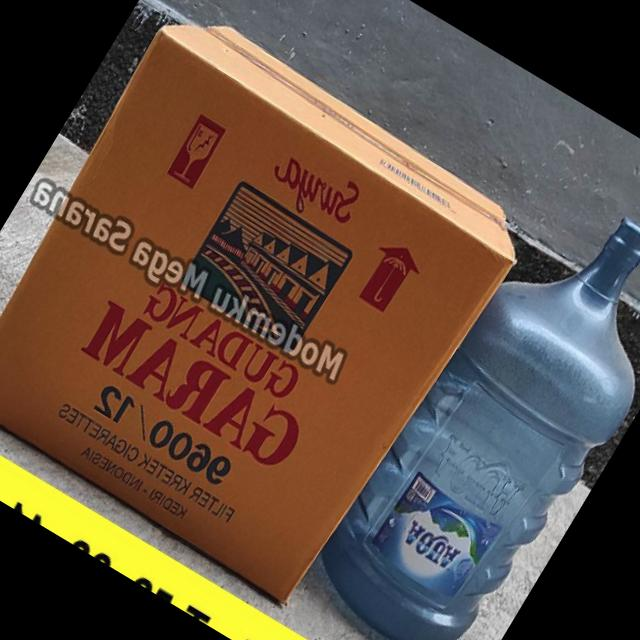Kardus: (0, 0, 545, 616)
